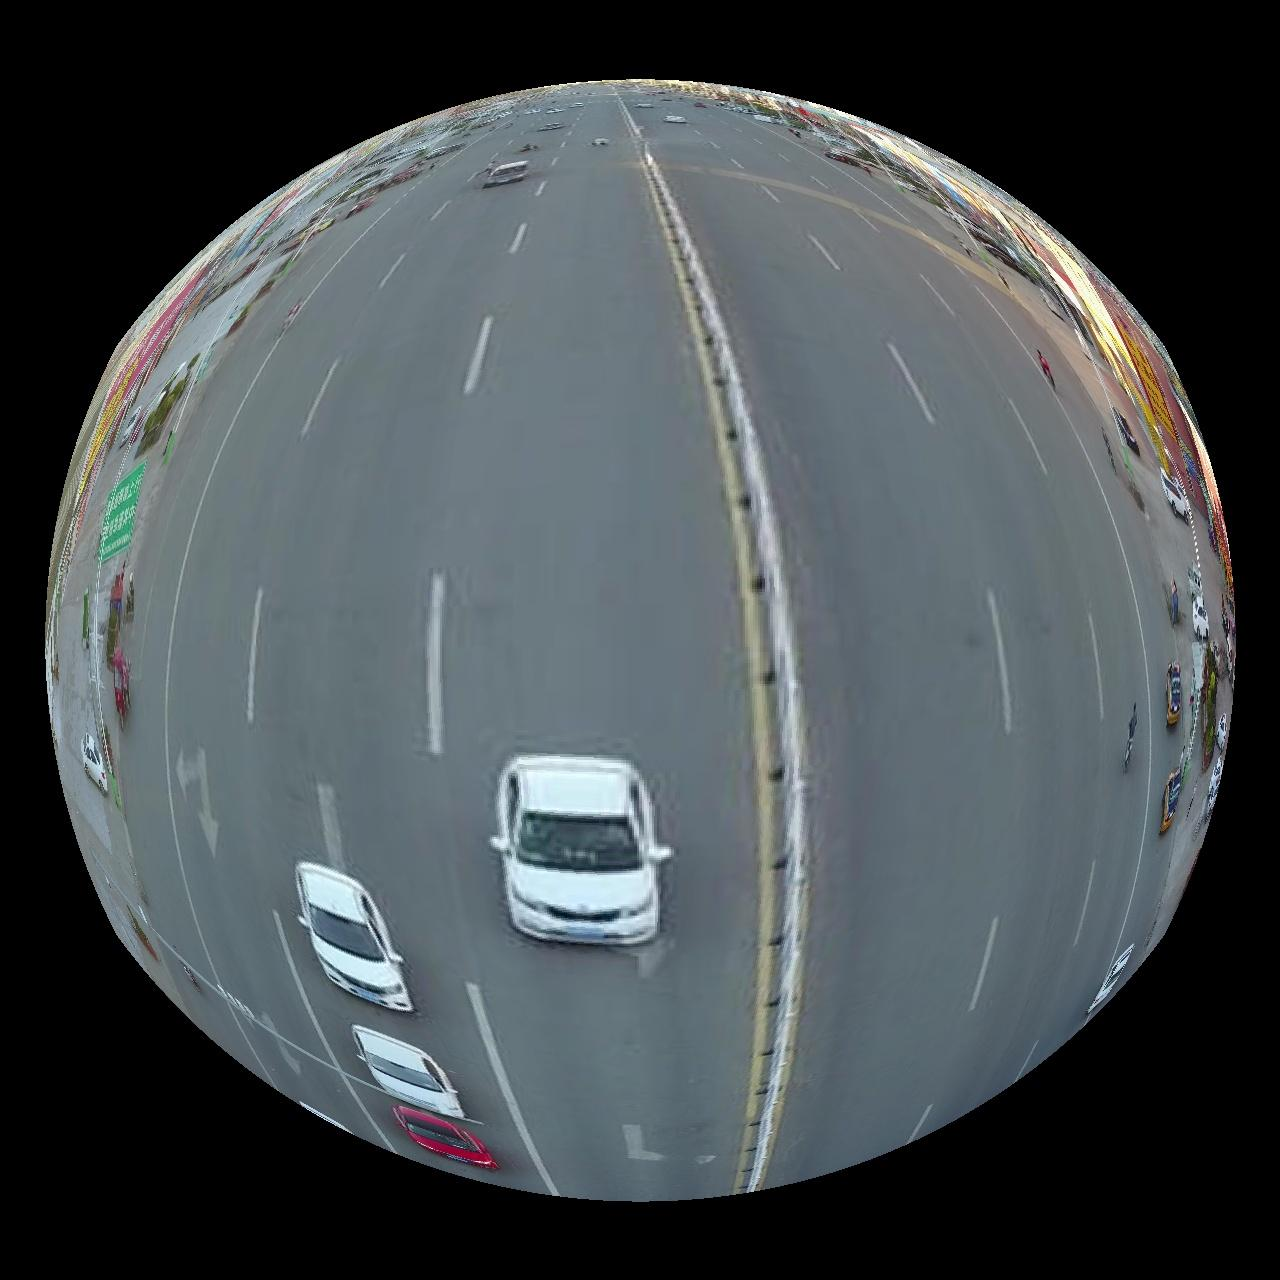cars: (490, 755, 673, 946), (295, 864, 413, 1014), (352, 1027, 464, 1121), (392, 1108, 498, 1171), (79, 733, 105, 795), (481, 158, 531, 186)
